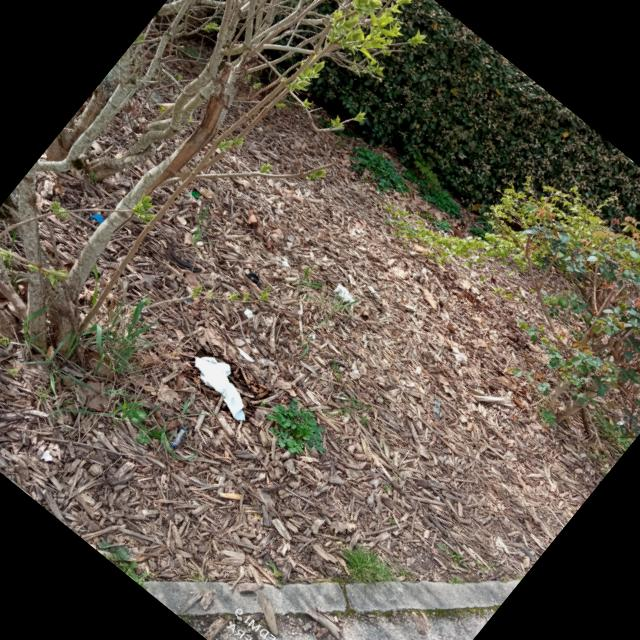Bottle cap: (179, 342, 270, 426), (190, 188, 202, 200)
